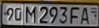0: (14, 6, 23, 22)
2: (38, 6, 49, 25)
3: (59, 6, 69, 24)
9: (48, 6, 59, 25), (4, 6, 14, 22)
A: (80, 8, 92, 25)
F: (69, 5, 81, 25)
M: (24, 5, 37, 24)
